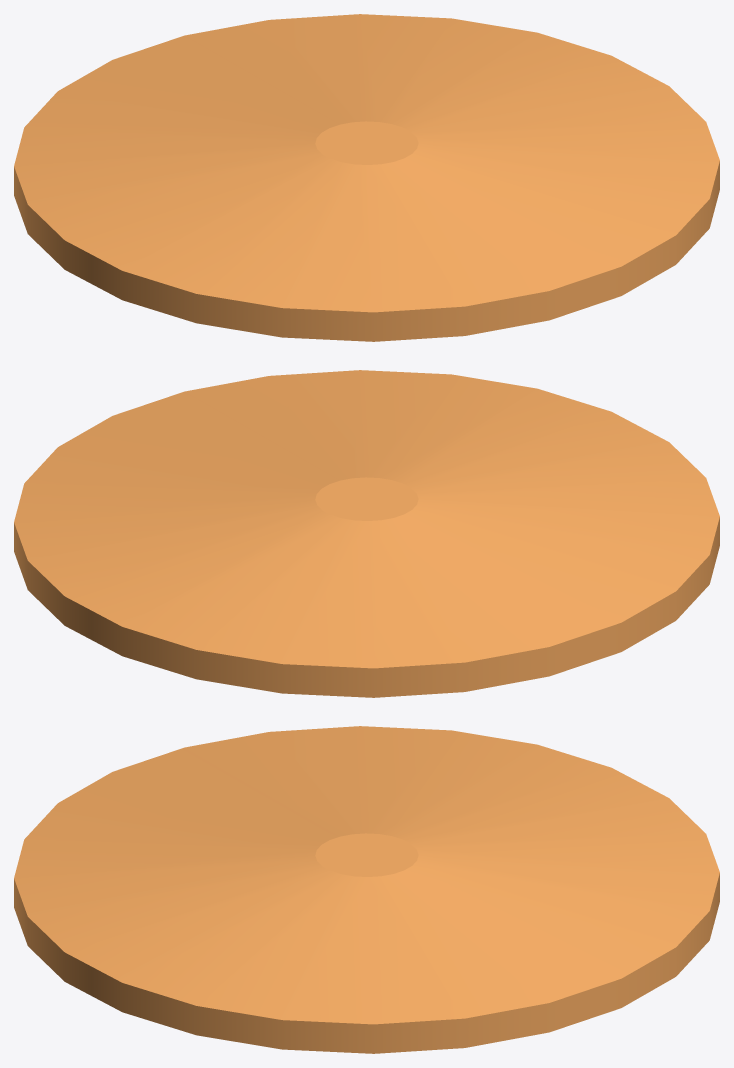
File: original-83.obj
3 views of the same model, one above another, from view 1: azimuth 30°, elevation 25°; view 2: azimuth 150°, elevation 25°; view 3: azimuth 270°, elevation 25° (orthographic).
Parts seen in each view (by area): view 1: Group31/Group32/mesh77/mesh77-geometry#mesh77-geometry; view 2: Group31/Group32/mesh77/mesh77-geometry#mesh77-geometry; view 3: Group31/Group32/mesh77/mesh77-geometry#mesh77-geometry.
Boxes of the visible parts, <box> form: Group31/Group32/mesh77/mesh77-geometry#mesh77-geometry: <box>14,14,719,341</box>; Group31/Group32/mesh77/mesh77-geometry#mesh77-geometry: <box>14,370,719,697</box>; Group31/Group32/mesh77/mesh77-geometry#mesh77-geometry: <box>14,726,719,1053</box>.
Bounding box in the file's own units: 0.1292 × 0.00998 × 0.1292.
